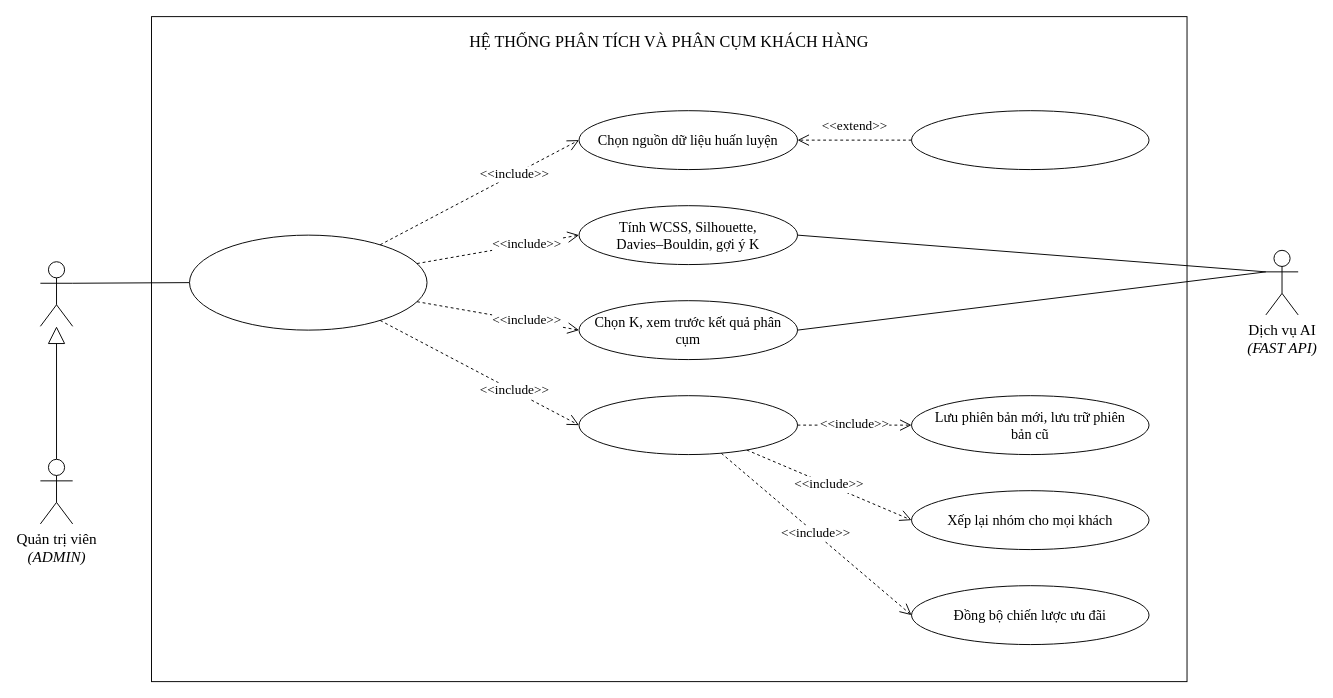
Image size: 1333x698. Some labels were removed from this diagram. Here are the shapes that lost their labels. From the top down, the centre of each, then its label:
At [1030,140]: "Thêm khách mua 12 tháng gần đây".
At [56,293]: "Quản lý (MANAGER)".
At [308,282]: "Huấn luyện và áp dụng phiên bản mô hình phân cụm".
At [688,425]: "Nhập lý do, áp dụng phiên bản mới".
